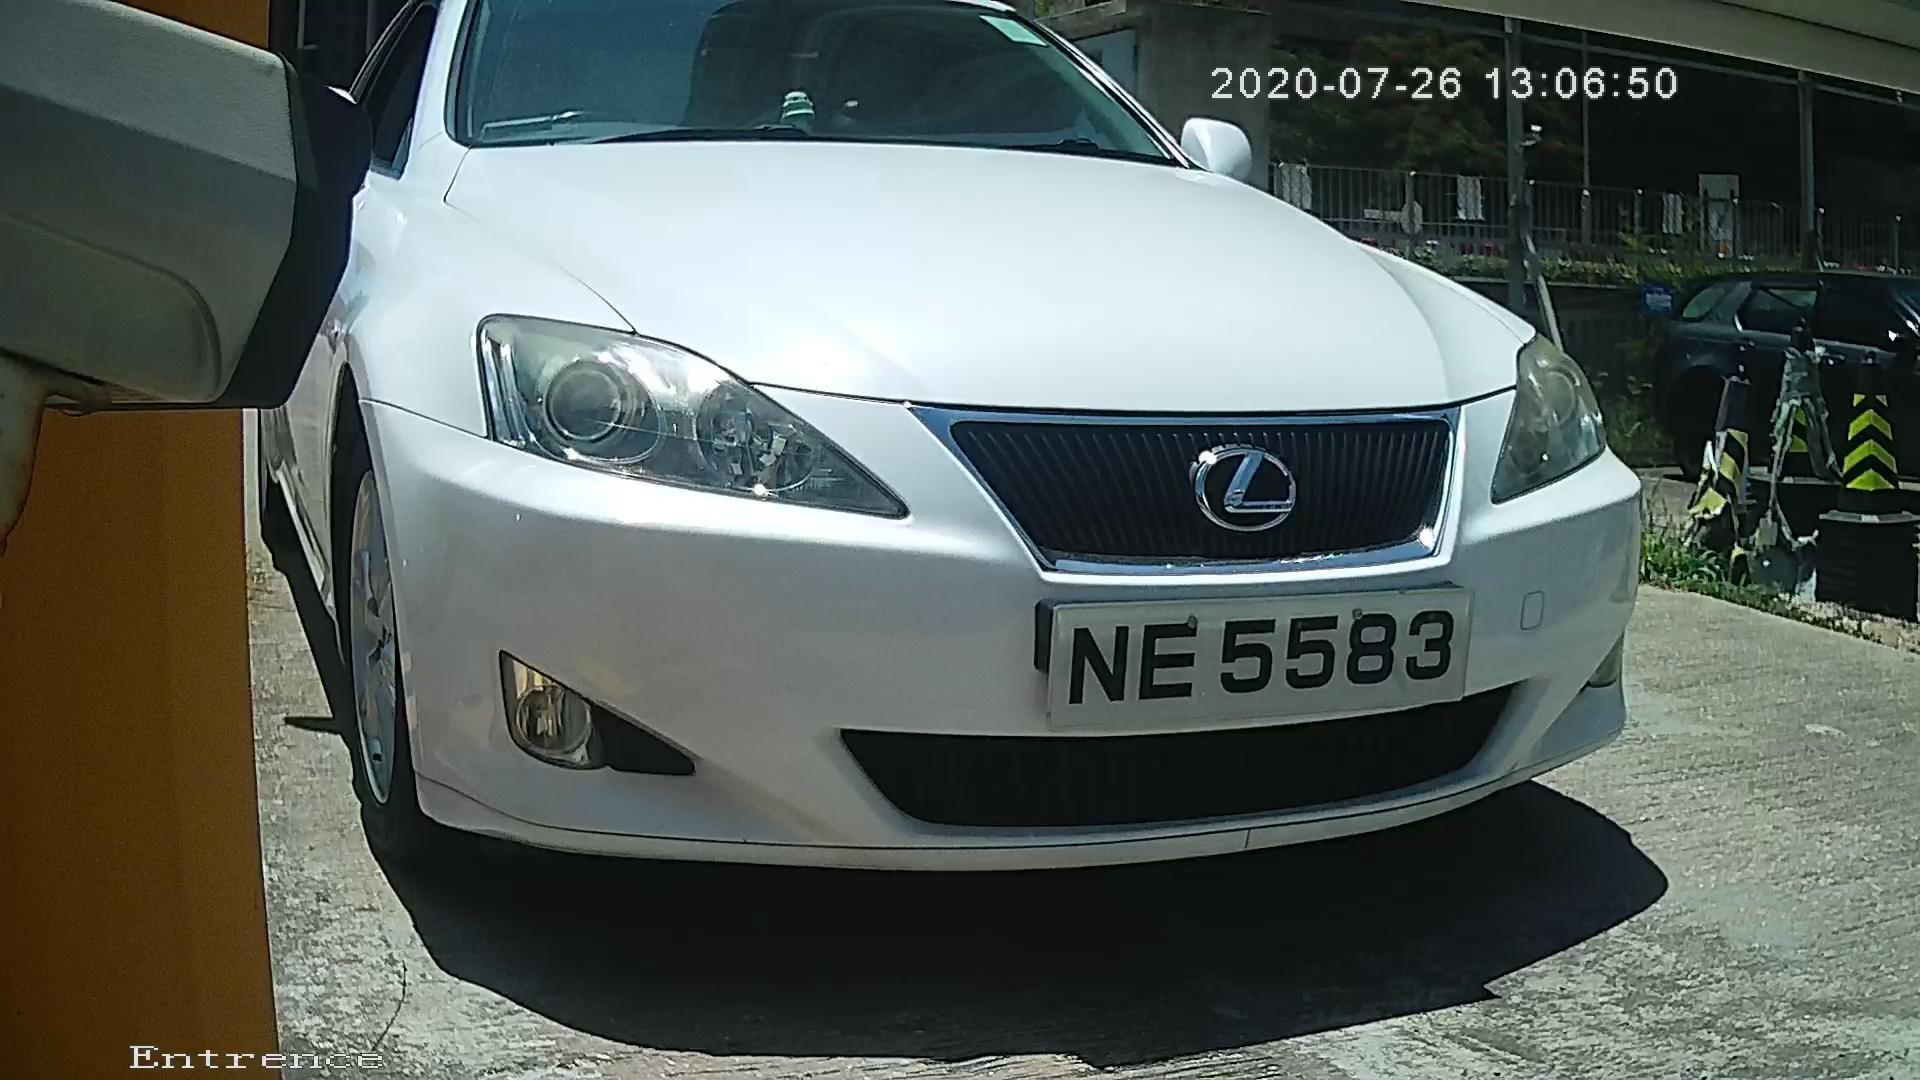privatecar: (223, 5, 1731, 1004)
